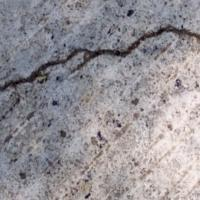crack: (0, 10, 199, 79)
